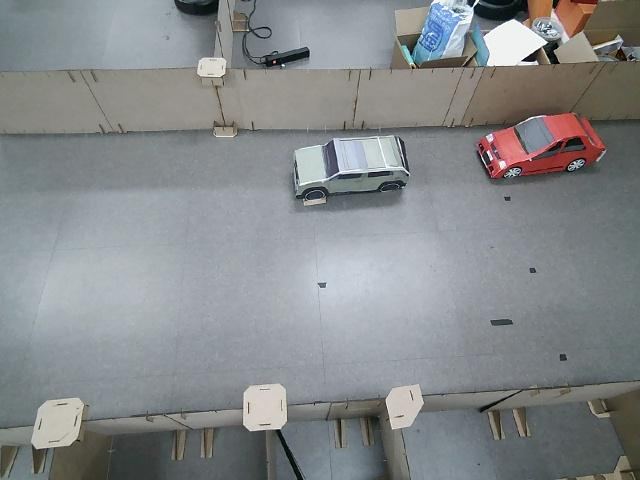car: (476, 109, 614, 190), (284, 132, 418, 206)
